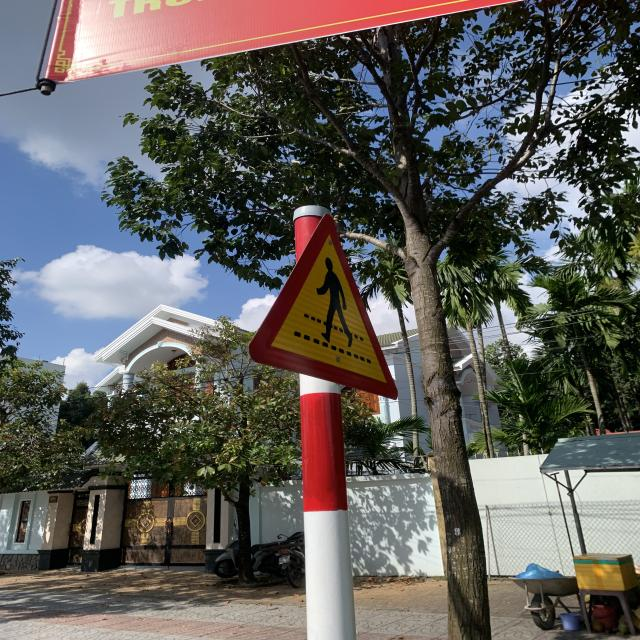Duong_Nguoi_Di_Bo_Sang_Ngang: (249, 215, 403, 402)
